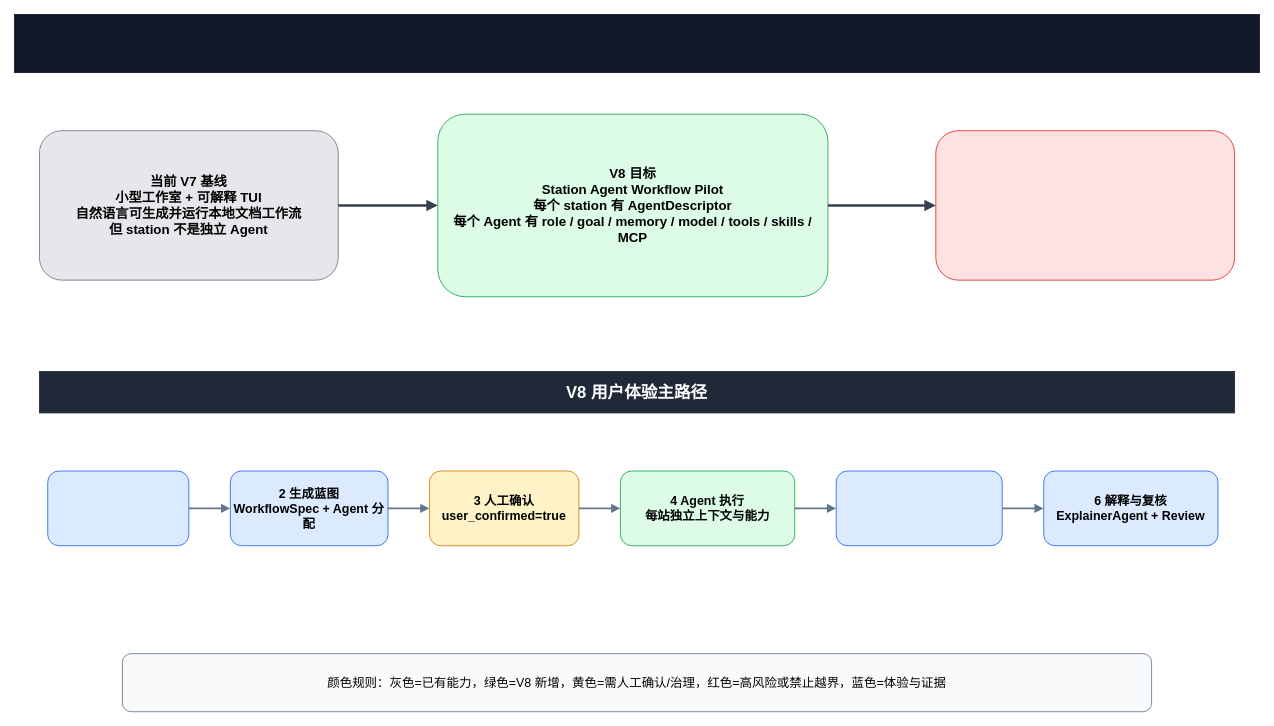
Some shapes in this 1274 by 726 pixel diagram are drawn without their labels. Here are the shapes that lost their labels. From the top down, the centre of each, then its label:
At point (637, 43): "HarnessOS V8 目标：每个工位一个独立 Agent".
At point (1085, 205): "高风险后置能力 Codex CLI / Claude CLI / ChromeCLI 只能作为受控 worker / connector 必须有人类高风险确认".
At point (118, 508): "1 输入目标 自然语言任务".
At point (918, 508): "5 审计结果 Report / Evidence / TUI".
